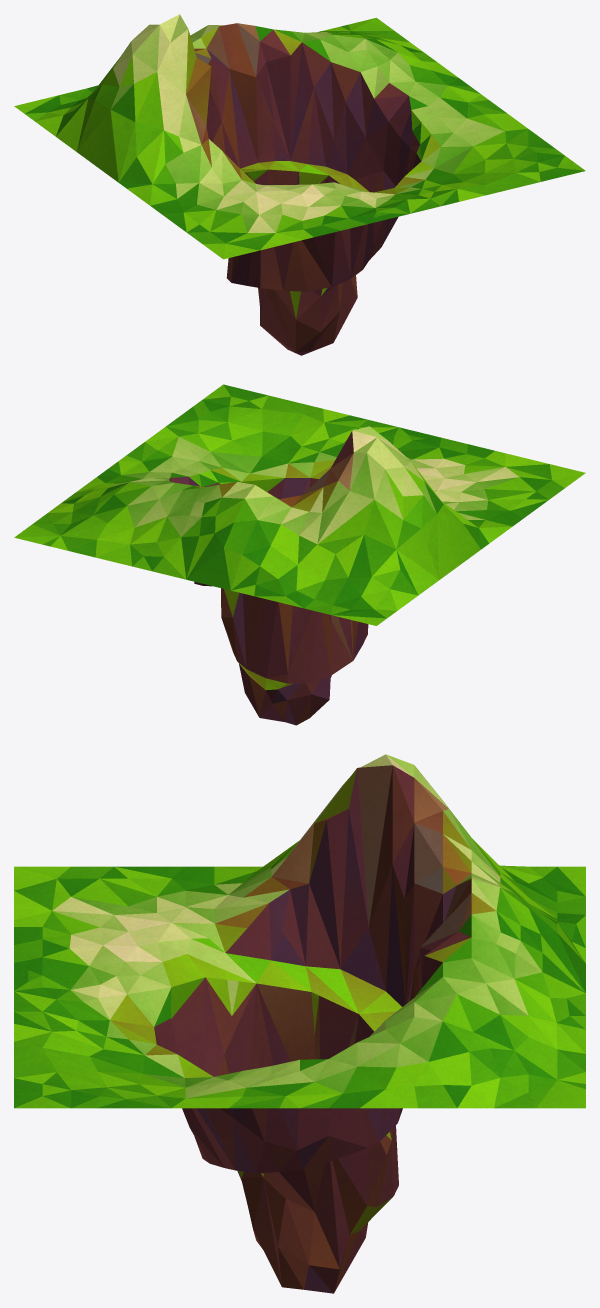
File: Terrain-part-03.fbx
The picture shows the model from 3 angles, top to bottom: view 1: azimuth 30°, elevation 25°; view 2: azimuth 150°, elevation 25°; view 3: azimuth 270°, elevation 25°; orthographic projection. The views are drawn at different scales.
Visible parts, largest first — view 1: Terrain-part-03; view 2: Terrain-part-03; view 3: Terrain-part-03.
Part boxes in pixels (x1,y1,x2,y2): Terrain-part-03: (14,14,585,355); Terrain-part-03: (14,384,585,725); Terrain-part-03: (14,754,585,1293).
Size of the model in its own units: 12 by 10.72 by 12.
